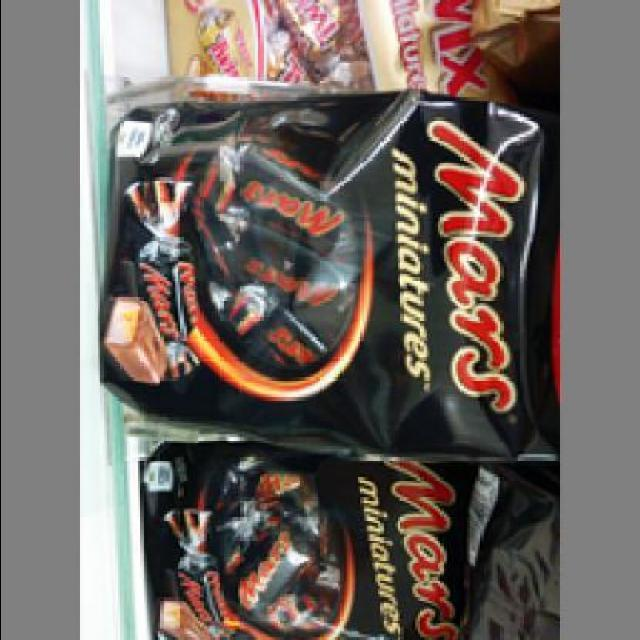Chocolate bar: (97, 89, 552, 440), (147, 449, 510, 637), (163, 2, 503, 106)
